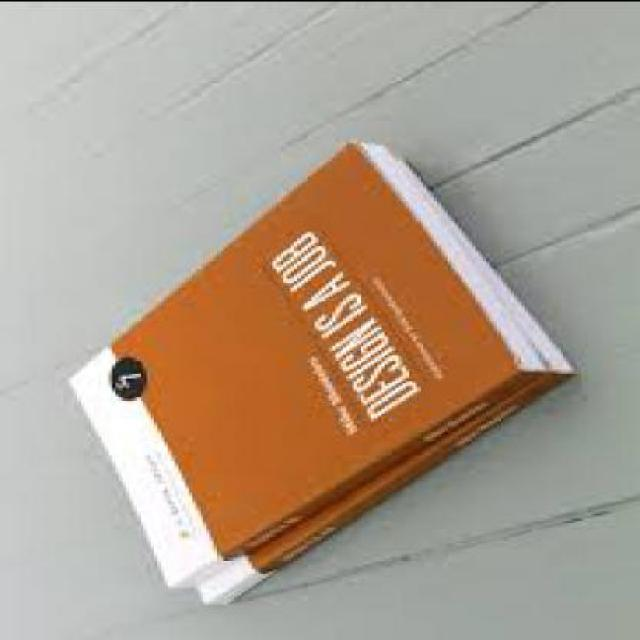PAPER: (60, 142, 542, 588), (192, 158, 566, 608)
